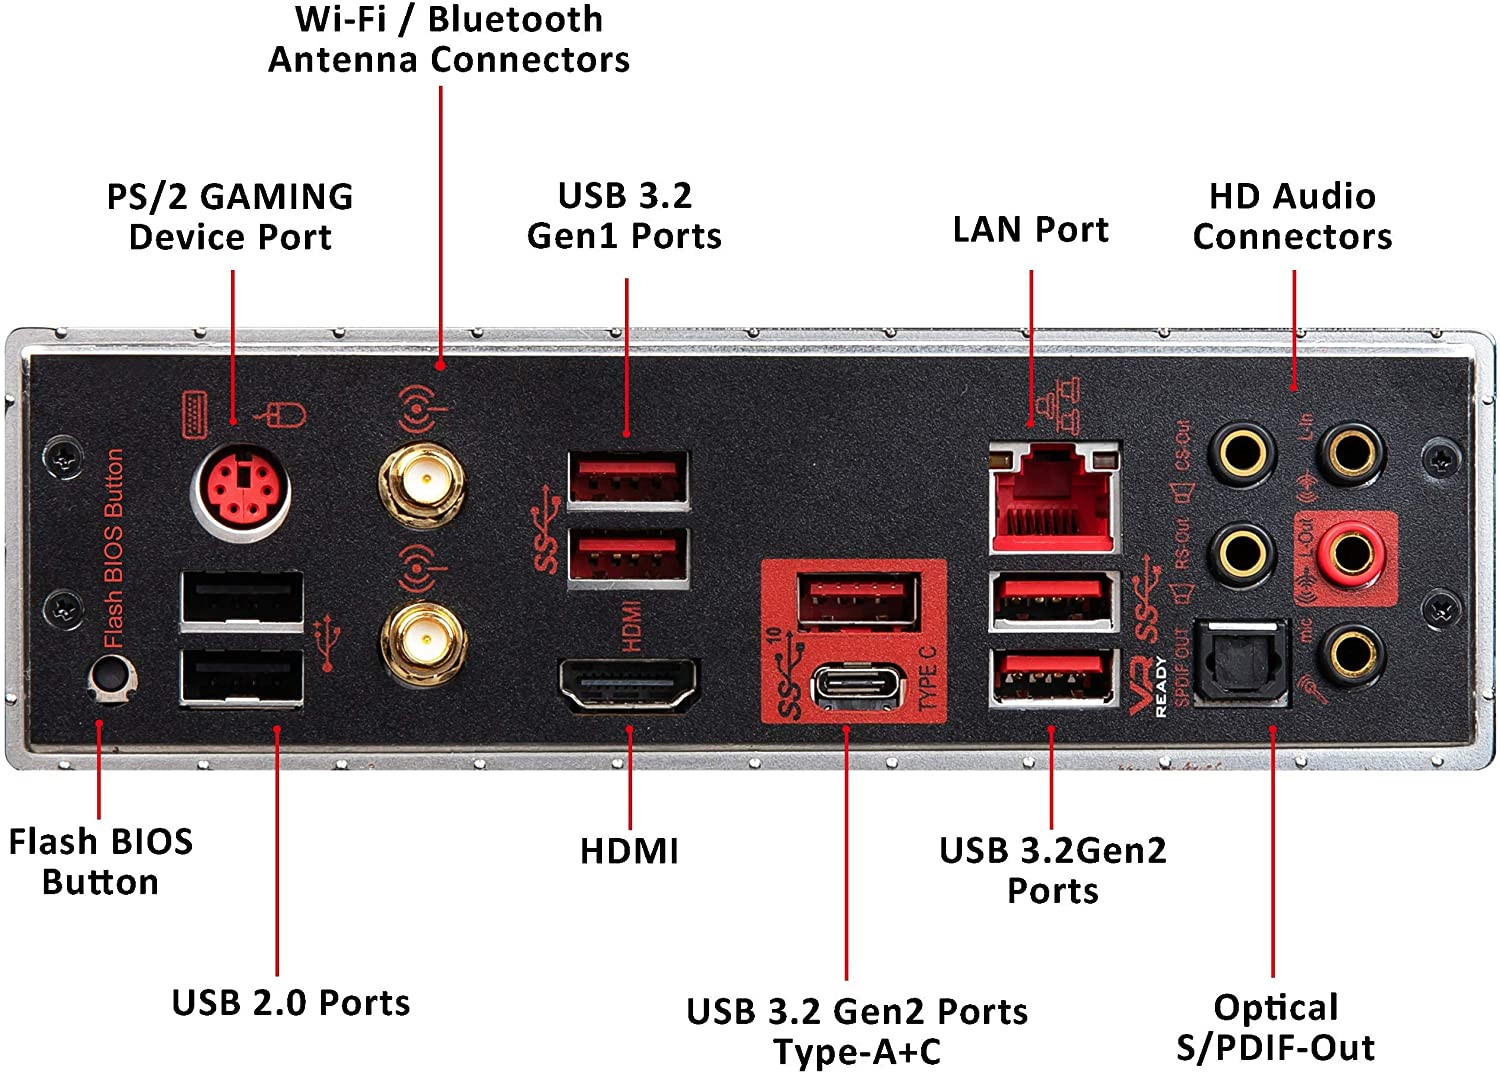Audio: (1314, 509, 1393, 598), (1203, 509, 1281, 595), (1310, 411, 1389, 488), (1318, 613, 1387, 696), (1203, 422, 1278, 492)
Ethernet: (973, 439, 1127, 559)
USB: (171, 556, 313, 636), (561, 441, 704, 520), (985, 636, 1120, 718), (561, 523, 704, 598), (985, 568, 1125, 634), (796, 556, 918, 631), (175, 643, 307, 710)
